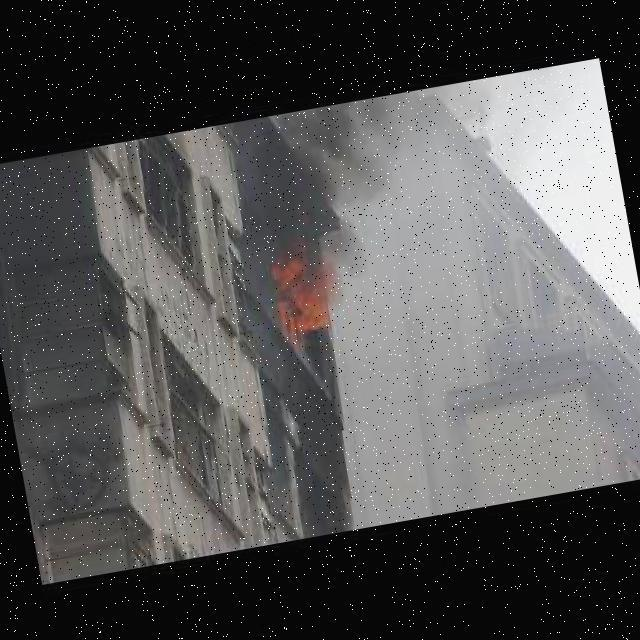Fire: (265, 234, 342, 349)
Smoke: (240, 99, 376, 247), (326, 228, 380, 297)
